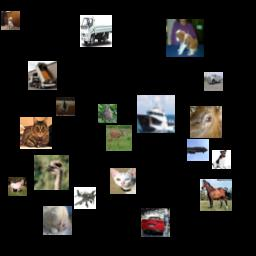airplane: (187, 139, 209, 161), (74, 187, 96, 209)
automobile: (141, 208, 170, 237)
bird: (34, 155, 69, 190)
cat: (20, 117, 52, 149), (110, 168, 136, 194)
deer: (190, 106, 222, 138), (106, 125, 132, 151)
dog: (166, 19, 204, 57), (43, 206, 72, 235), (212, 150, 231, 169), (1, 11, 20, 30)
frog: (98, 104, 117, 123)
ship: (137, 95, 175, 133)
truck: (80, 15, 112, 47), (28, 61, 57, 90), (204, 72, 223, 91)
